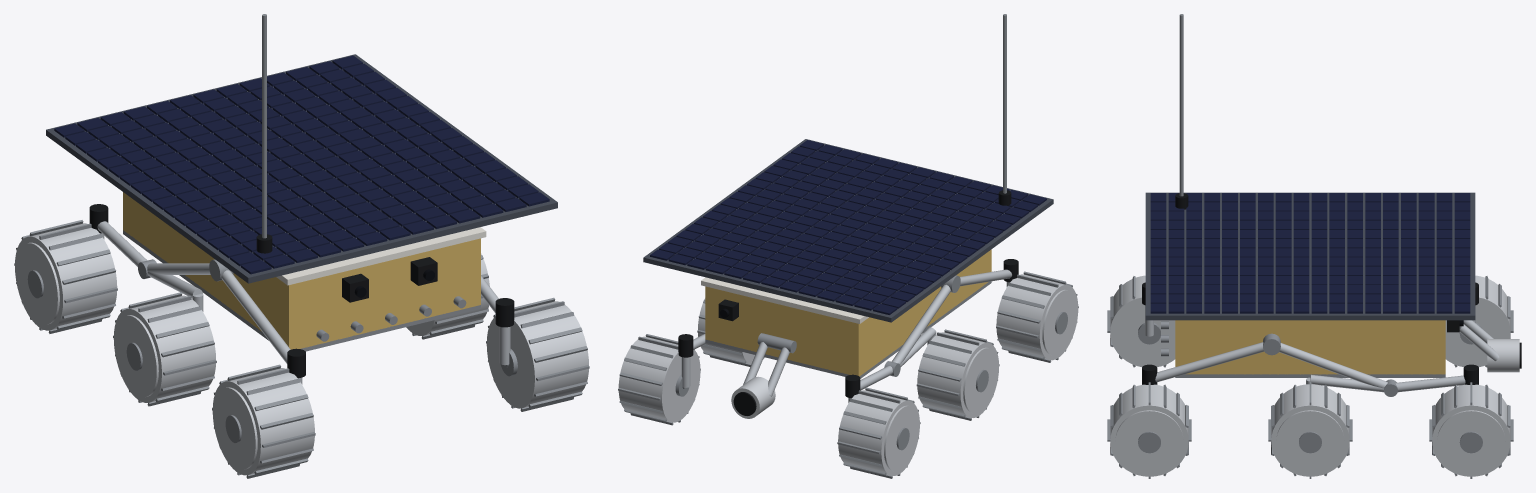
The model's file is sojourner.glb.
3 renders of one model, left to right at view 1: azimuth 30°, elevation 25°; view 2: azimuth 150°, elevation 25°; view 3: azimuth 270°, elevation 25°, orthographic. The views are drawn at different scales.
Visible parts, largest first — view 1: panel_cells, wheel_rim (×5), body_box, wheel_cleats (×5), panel_frame, wheel_face (×3), body_top, body_bottom, rocker_front, antenna_rod, rocker_rear, bogie_rear; view 2: panel_cells, wheel_rim (×5), body_box, wheel_cleats (×4), panel_frame, wheel_face (×3), body_top, rocker_rear, body_bottom, apxs_head, antenna_rod, rocker_front; view 3: panel_cells, wheel_rim (×5), body_box, panel_frame, wheel_face (×3), wheel_cleats (×3), rocker_front, rocker_rear, apxs_head, body_bottom, antenna_rod, bogie_rear (+2 smaller).
Part boxes in pixels (left/top/right/bottom): panel_cells: left=54, top=55, right=549, bottom=274; wheel_rim (×5): left=15, top=223, right=588, bottom=475; body_box: left=123, top=192, right=480, bottom=349; wheel_cleats (×5): left=14, top=220, right=589, bottom=478; panel_frame: left=46, top=54, right=557, bottom=283; wheel_face (×3): left=16, top=242, right=257, bottom=469; body_top: left=276, top=227, right=486, bottom=285; body_bottom: left=123, top=230, right=480, bottom=351; rocker_front: left=221, top=270, right=290, bottom=363; antenna_rod: left=262, top=14, right=266, bottom=238; rocker_rear: left=147, top=263, right=210, bottom=274; bogie_rear: left=97, top=221, right=147, bottom=266; panel_cells: left=650, top=140, right=1046, bottom=314; wheel_rim (×5): left=618, top=274, right=1078, bottom=475; body_box: left=705, top=249, right=991, bottom=376; wheel_cleats (×4): left=618, top=271, right=1078, bottom=478; panel_frame: left=643, top=139, right=1053, bottom=322; wheel_face (×3): left=884, top=289, right=1077, bottom=471; body_top: left=701, top=277, right=868, bottom=323; rocker_rear: left=892, top=284, right=950, bottom=364; body_bottom: left=705, top=281, right=991, bottom=378; apxs_head: left=731, top=376, right=775, bottom=418; antenna_rod: left=1003, top=14, right=1006, bottom=193; rocker_front: left=960, top=269, right=1011, bottom=286; panel_cells: left=1150, top=193, right=1470, bottom=313; wheel_rim (×5): left=1110, top=275, right=1510, bottom=476; body_box: left=1175, top=320, right=1445, bottom=374; panel_frame: left=1145, top=192, right=1475, bottom=320; wheel_face (×3): left=1115, top=410, right=1505, bottom=472; wheel_cleats (×3): left=1107, top=382, right=1513, bottom=478; rocker_front: left=1155, top=342, right=1263, bottom=382; rocker_rear: left=1279, top=343, right=1387, bottom=388; apxs_head: left=1487, top=339, right=1519, bottom=372; body_bottom: left=1175, top=374, right=1445, bottom=377; antenna_rod: left=1179, top=14, right=1183, bottom=196; bogie_rear: left=1395, top=375, right=1465, bottom=392.
Bounding box in the file's own units: 0.491 × 0.6055 × 0.6435.
